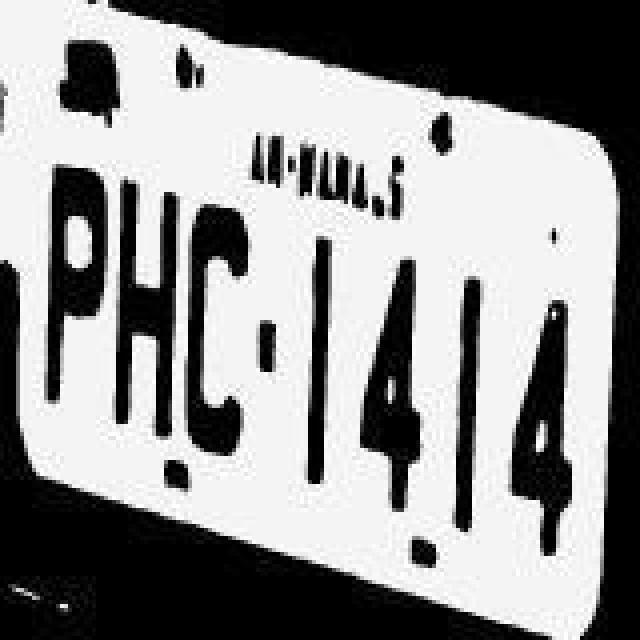1: (292, 230, 348, 522), (446, 246, 498, 538)
4: (506, 284, 590, 564), (360, 244, 440, 516)
C: (182, 202, 258, 470)
H: (108, 162, 180, 454)
P: (38, 136, 106, 440)
